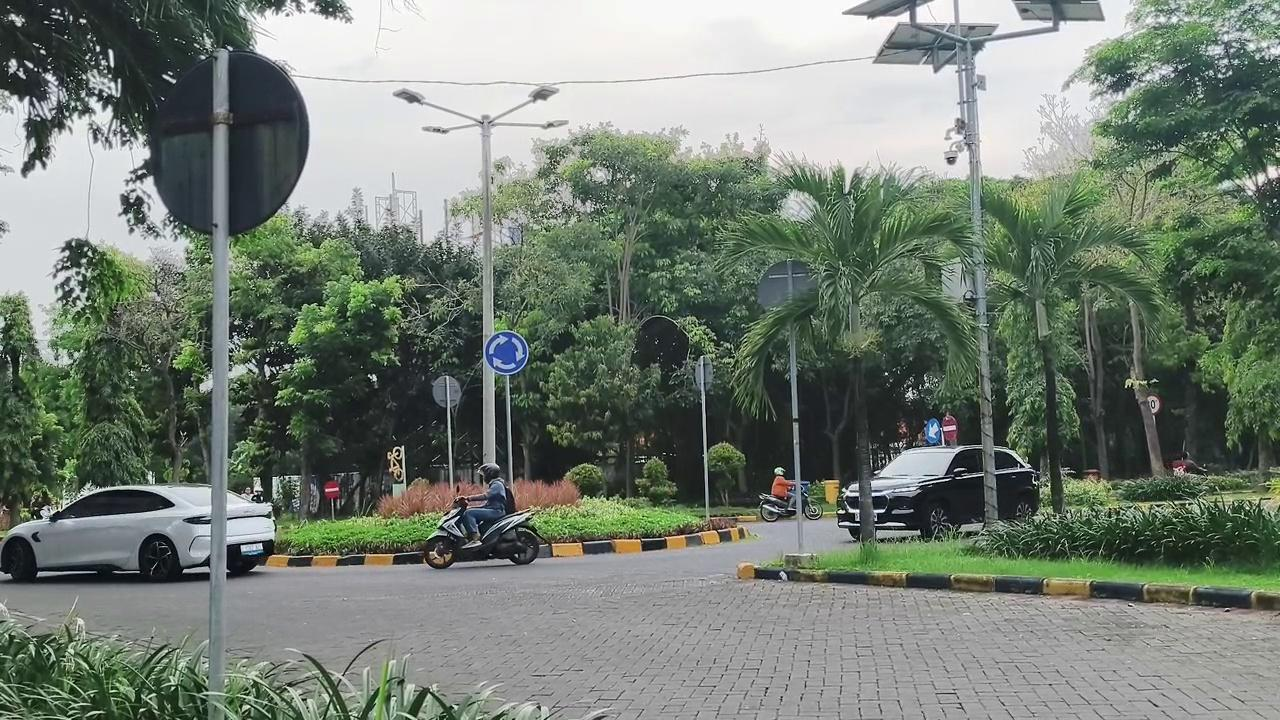Helmet: (463, 463, 506, 547), (771, 467, 794, 505)
Motor: (424, 499, 548, 568), (758, 493, 794, 521)
